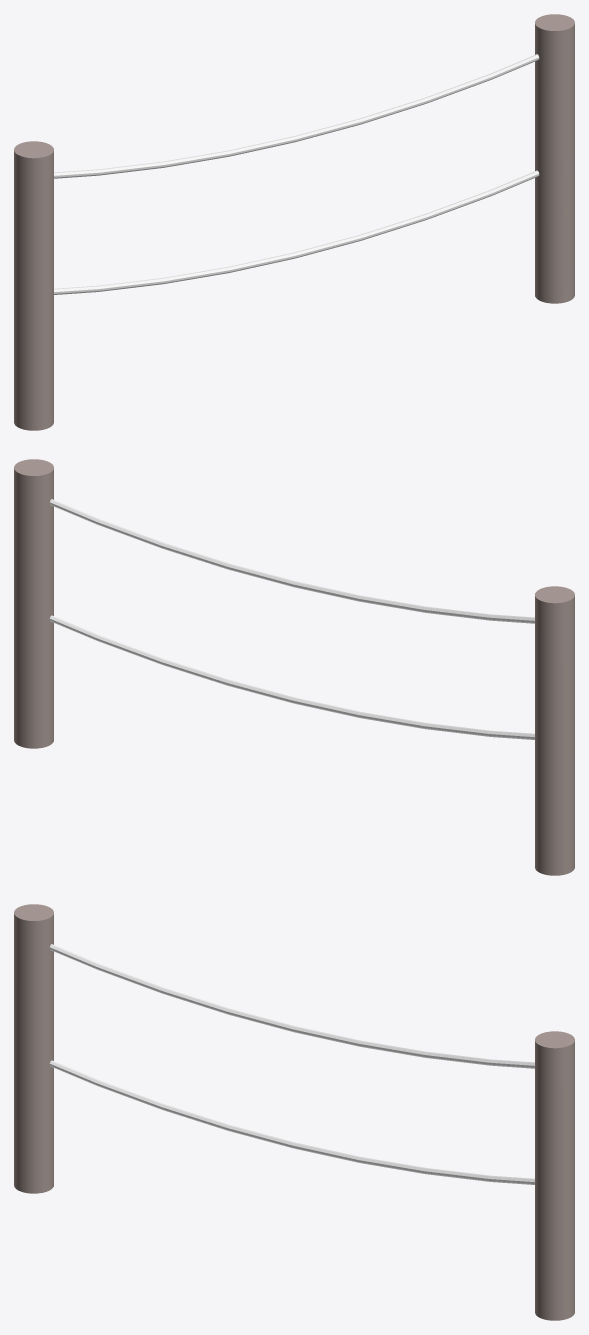
File: 1036_fence_1.glb
The picture shows the model from 3 angles, top to bottom: view 1: azimuth 30°, elevation 25°; view 2: azimuth 150°, elevation 25°; view 3: azimuth 330°, elevation 25°; orthographic projection.
Visible parts, largest first — view 1: Body; view 2: Body; view 3: Body.
Part boxes in pixels (<box>): Body: <box>14,14,574,430</box>; Body: <box>14,459,574,875</box>; Body: <box>14,904,574,1320</box>.
Size of the model in its own units: 1.6 by 0.75 by 0.1.
